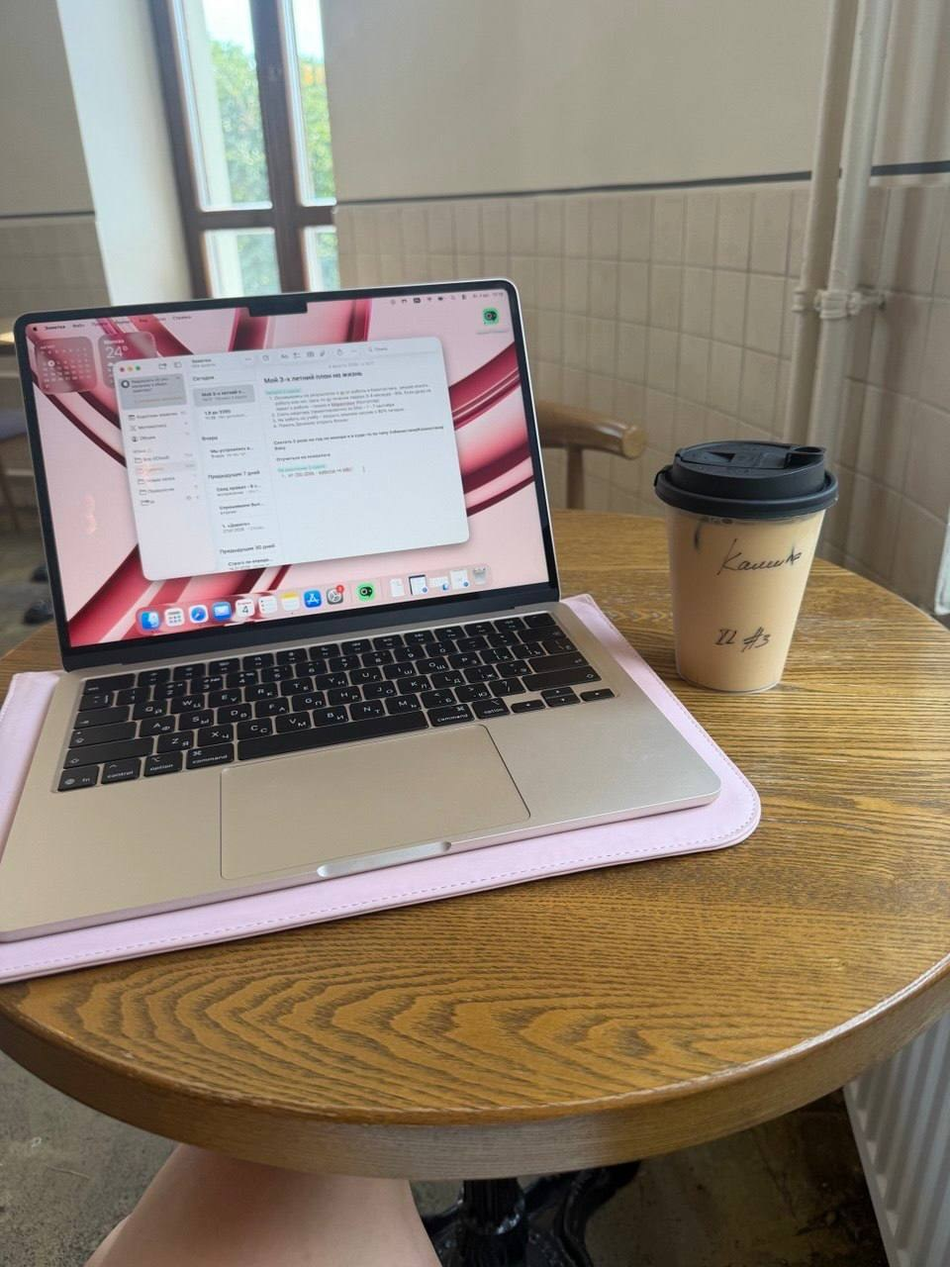laptop: (1, 276, 723, 942)
